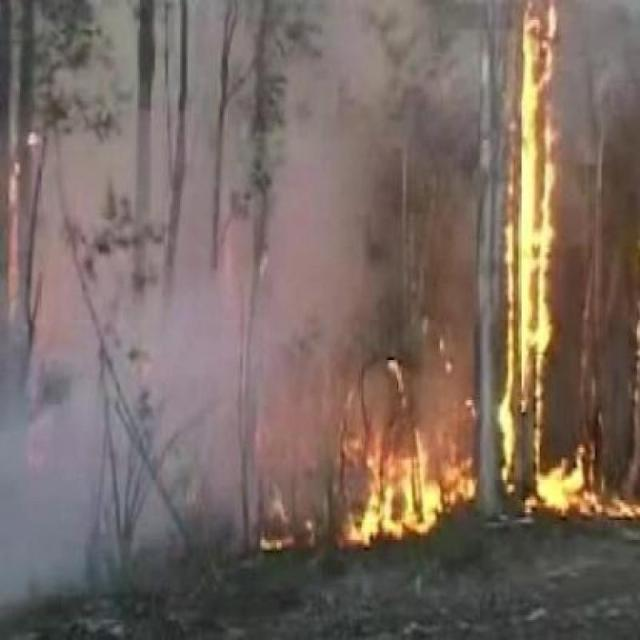Fire: (4, 332, 254, 568), (350, 360, 465, 550), (496, 104, 542, 524), (554, 440, 634, 530)
